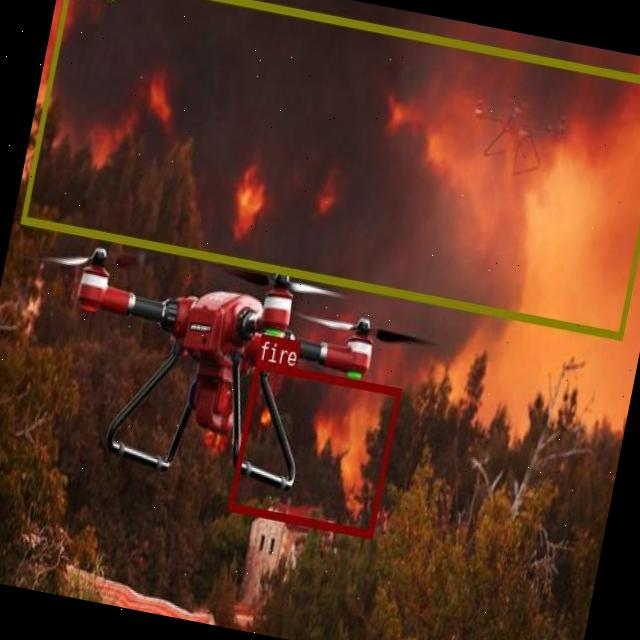fire: (228, 360, 400, 536)
smoke: (20, 0, 640, 339)
